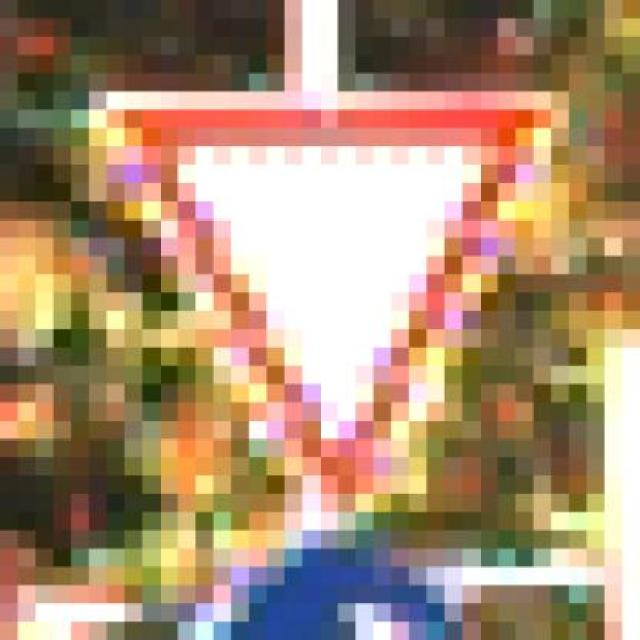Give Way: (101, 72, 582, 566)
